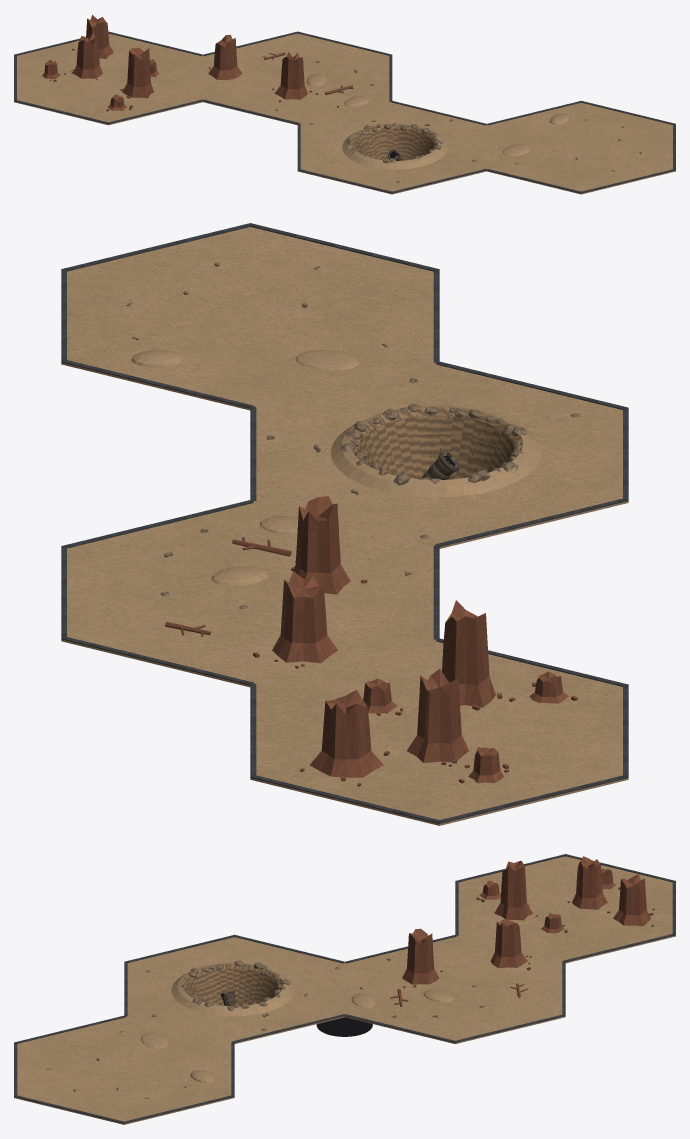
Rendered from WasteHex_Zigzag.glb.
3 views of the same model, one above another, from view 1: azimuth 30°, elevation 25°; view 2: azimuth 150°, elevation 25°; view 3: azimuth 270°, elevation 25° (orthographic). The views are drawn at different scales.
Visible parts, largest first — view 1: WasteHex_Zigzag_Ground, WasteHex_Zigzag_Prop_Petrified, WasteHex_Zigzag_GroundTrim, WasteHex_Zigzag_Prop_PitWall, WasteHex_Zigzag_Prop_PitRim, WasteHex_Zigzag_Prop_Drift, WasteHex_Zigzag_Prop_Rock; view 2: WasteHex_Zigzag_Ground, WasteHex_Zigzag_Prop_Petrified, WasteHex_Zigzag_GroundTrim, WasteHex_Zigzag_Prop_PitWall, WasteHex_Zigzag_Prop_PitRim, WasteHex_Zigzag_Prop_Drift, WasteHex_Zigzag_Prop_Rock; view 3: WasteHex_Zigzag_Ground, WasteHex_Zigzag_Prop_Petrified, WasteHex_Zigzag_GroundTrim, WasteHex_Zigzag_Prop_PitWall, WasteHex_Zigzag_Prop_PitRim, WasteHex_Zigzag_Prop_Drift, WasteHex_Zigzag_Prop_Rock, WasteHex_Zigzag_Prop_PitDark.
Boxes of the visible parts, <box> form: WasteHex_Zigzag_Ground: <box>14,33,675,194</box>; WasteHex_Zigzag_Prop_Petrified: <box>42,15,318,111</box>; WasteHex_Zigzag_GroundTrim: <box>14,31,675,193</box>; WasteHex_Zigzag_Prop_PitWall: <box>352,124,437,160</box>; WasteHex_Zigzag_Prop_PitRim: <box>342,124,447,169</box>; WasteHex_Zigzag_Prop_Drift: <box>306,73,570,156</box>; WasteHex_Zigzag_Prop_Rock: <box>347,123,442,163</box>; WasteHex_Zigzag_Ground: <box>61,227,628,825</box>; WasteHex_Zigzag_Prop_Petrified: <box>253,496,577,786</box>; WasteHex_Zigzag_GroundTrim: <box>61,223,628,823</box>; WasteHex_Zigzag_Prop_PitWall: <box>350,407,522,478</box>; WasteHex_Zigzag_Prop_PitRim: <box>331,405,542,497</box>; WasteHex_Zigzag_Prop_Drift: <box>131,350,359,585</box>; WasteHex_Zigzag_Prop_Rock: <box>340,403,526,485</box>; WasteHex_Zigzag_Ground: <box>14,856,675,1124</box>; WasteHex_Zigzag_Prop_Petrified: <box>402,856,654,988</box>; WasteHex_Zigzag_GroundTrim: <box>14,854,675,1123</box>; WasteHex_Zigzag_Prop_PitWall: <box>183,963,283,1005</box>; WasteHex_Zigzag_Prop_PitRim: <box>171,963,294,1016</box>; WasteHex_Zigzag_Prop_Drift: <box>141,989,453,1083</box>; WasteHex_Zigzag_Prop_Rock: <box>181,960,290,1010</box>; WasteHex_Zigzag_Prop_PitDark: <box>316,1017,372,1036</box>.
Bounding box in the file's own units: 30 × 4.54 × 31.18.
11 materials, 11 textured.
